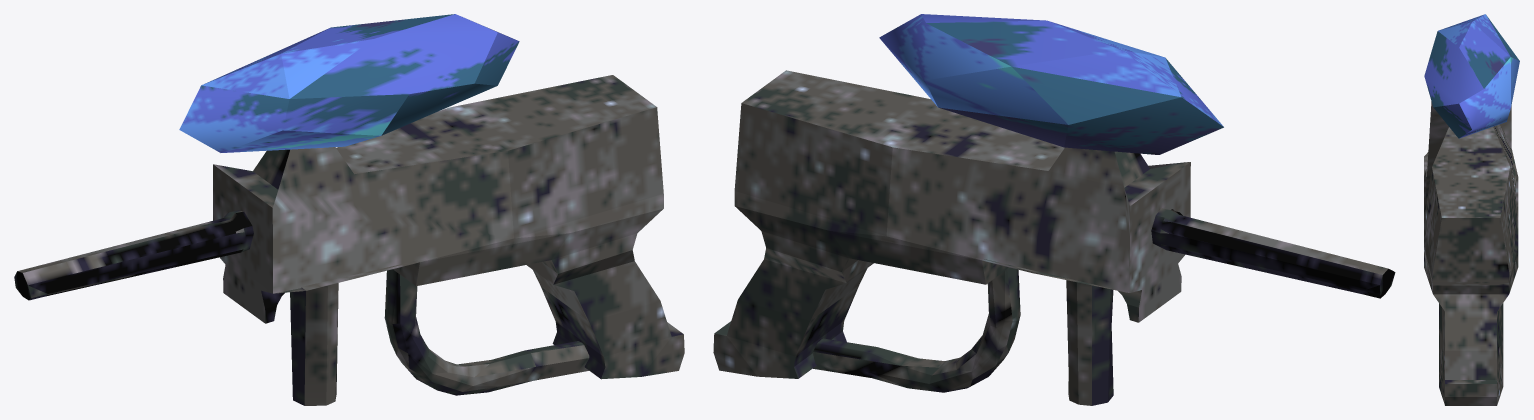
File: paintballgun.fbx
3 renders of one model, left to right at view 1: azimuth 30°, elevation 25°; view 2: azimuth 150°, elevation 25°; view 3: azimuth 270°, elevation 25°, orthographic. The views are drawn at different scales.
Parts seen in each view (by area): view 1: Cube, Icosphere; view 2: Cube, Icosphere; view 3: Cube, Icosphere.
Boxes of the visible parts, left/top/right/bottom form: Cube: left=14, top=75, right=684, bottom=405; Icosphere: left=179, top=14, right=519, bottom=152; Cube: left=713, top=70, right=1395, bottom=405; Icosphere: left=879, top=14, right=1223, bottom=154; Cube: left=1424, top=101, right=1518, bottom=405; Icosphere: left=1424, top=14, right=1519, bottom=138.
Bounding box in the file's own units: 381 × 224 × 73.97.
